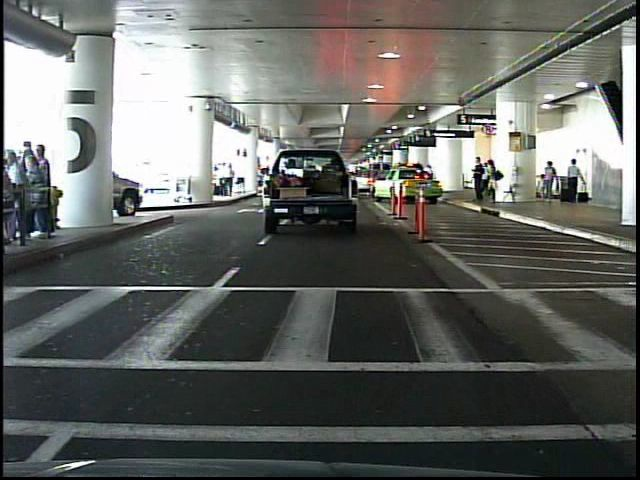person: (470, 154, 487, 206), (486, 157, 503, 205)
